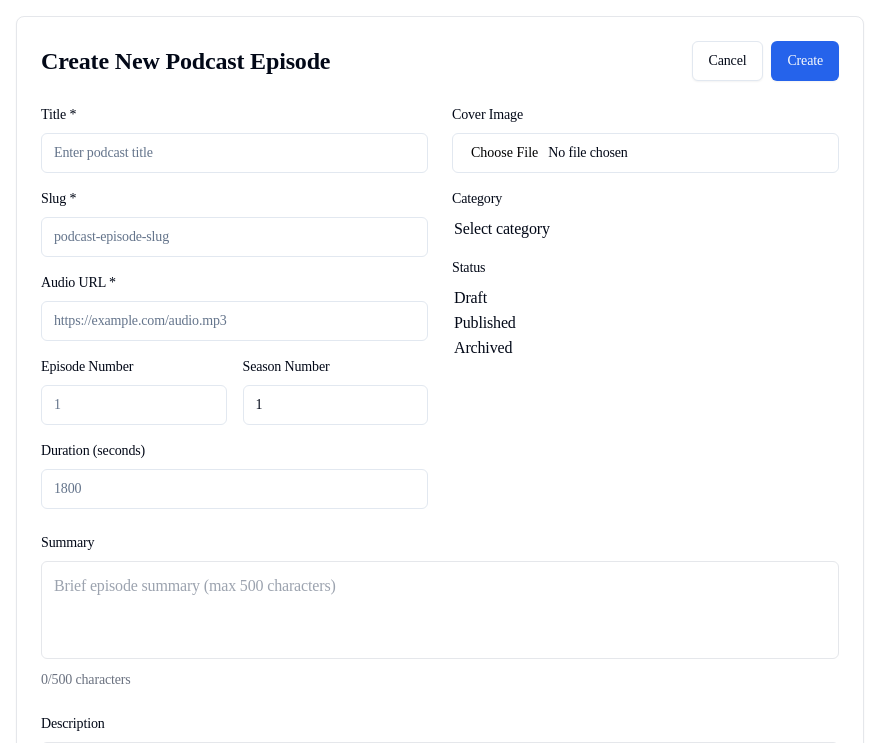
PodcastForm › validates slug format
Type "Invalid Slug With Spaces" into the field with placeholder "podcast-episode-slug". click: (234, 237)
box: left=41, top=217, right=428, bottom=257
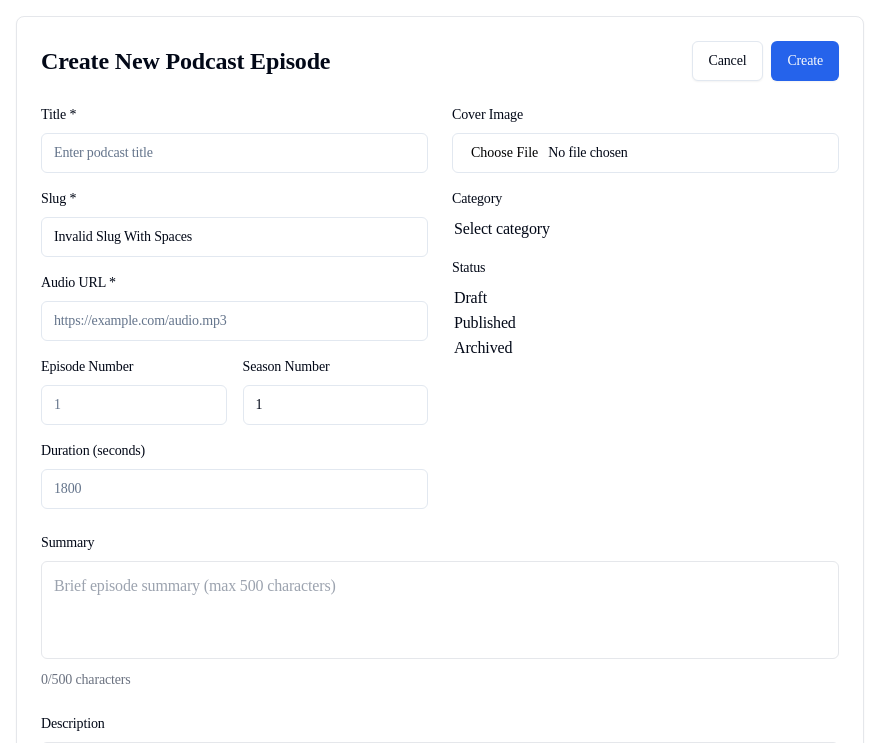
Click the button "Create". click: (805, 61)
box: left=771, top=41, right=839, bottom=81
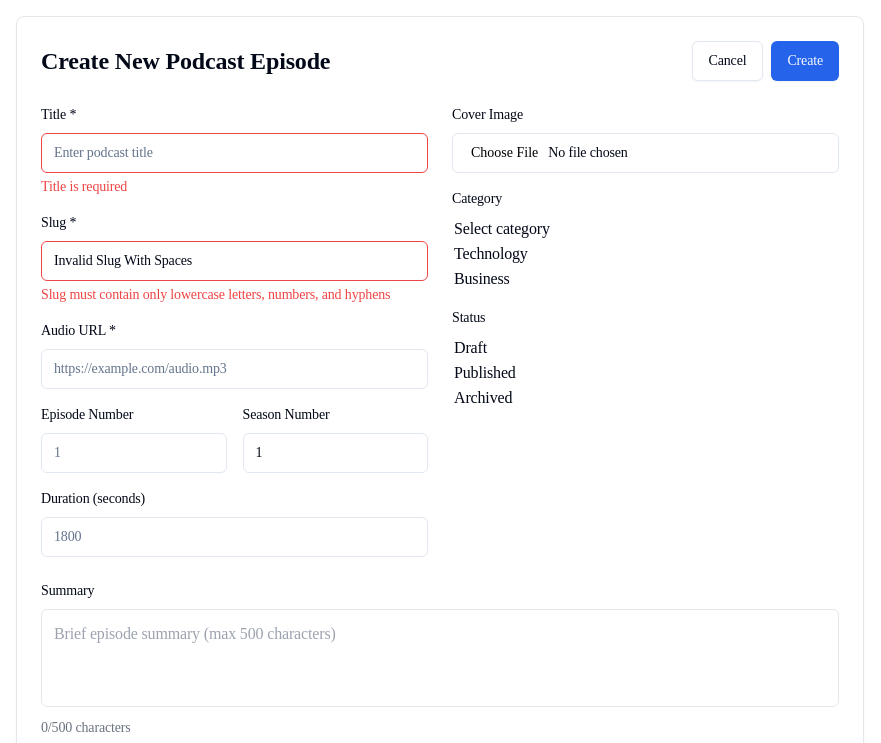
Expected: the text "Slug must contain only lowercase letters, numbers, and hyphens" is shown, left=41, top=285, right=428, bottom=305
